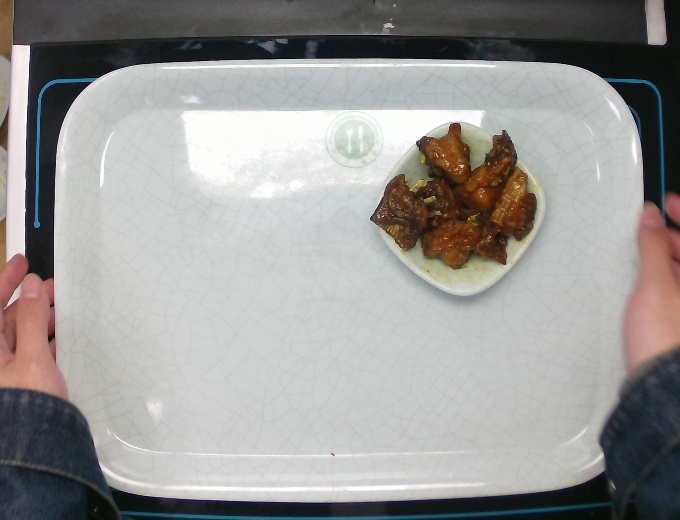JYsf-Si_Fang_Die: (378, 120, 548, 296)
